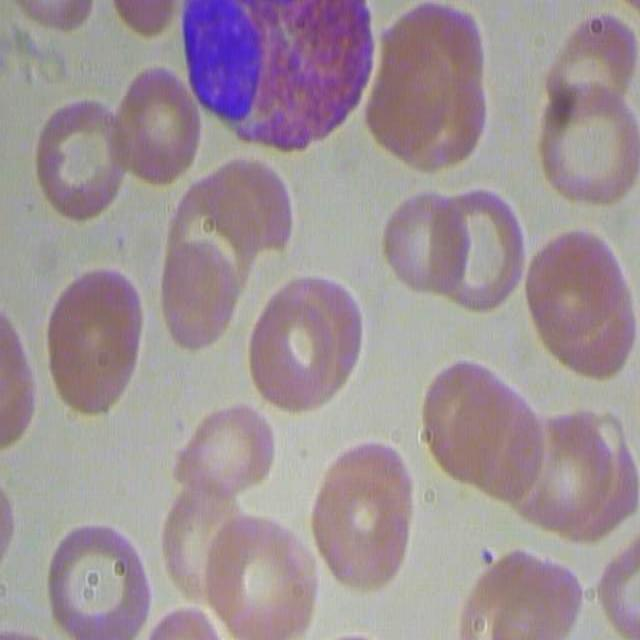RBC: (150, 145, 269, 353), (368, 0, 491, 173), (414, 356, 542, 503), (523, 215, 637, 380), (511, 403, 636, 551), (245, 269, 364, 422), (310, 436, 413, 596), (41, 264, 143, 416), (424, 181, 528, 315), (39, 515, 150, 640), (530, 85, 637, 212), (204, 515, 312, 640), (28, 93, 127, 225), (454, 540, 582, 638), (109, 64, 200, 188), (380, 183, 463, 308), (0, 296, 35, 453), (598, 523, 640, 638), (10, 0, 102, 35), (117, 8, 179, 53)
WBC: (177, 0, 368, 145)
